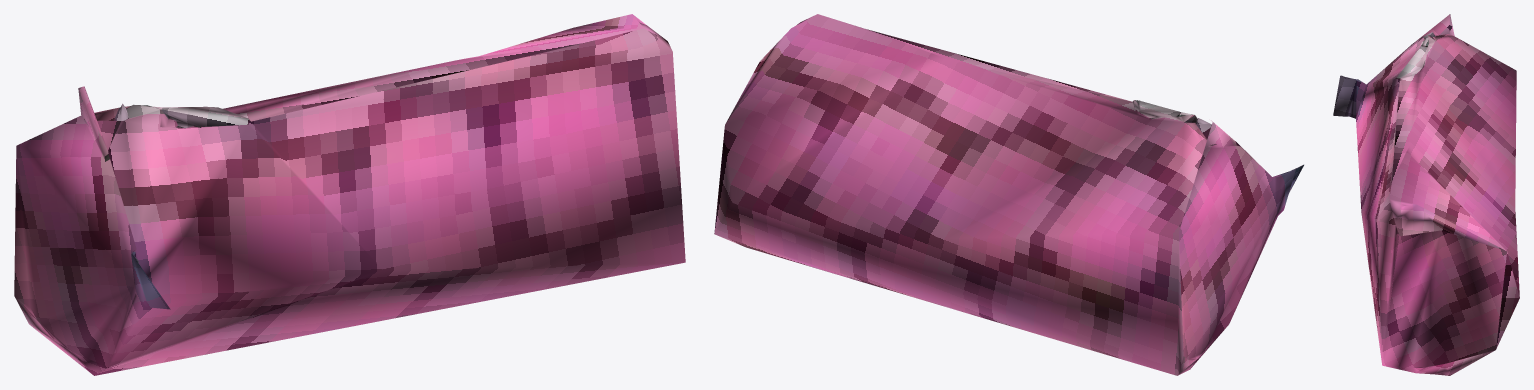
File: Big_Dot_Pink_Pencil_Case-low.glb
The picture shows the model from 3 angles, left to right: view 1: azimuth 30°, elevation 25°; view 2: azimuth 150°, elevation 25°; view 3: azimuth 270°, elevation 25°; orthographic projection. The views are drawn at different scales.
Parts seen in each view (by area): view 1: Big_Dot_Pink_Pencil_Case; view 2: Big_Dot_Pink_Pencil_Case; view 3: Big_Dot_Pink_Pencil_Case.
Boxes of the visible parts, <box> form: Big_Dot_Pink_Pencil_Case: <box>14,14,685,375</box>; Big_Dot_Pink_Pencil_Case: <box>714,14,1303,375</box>; Big_Dot_Pink_Pencil_Case: <box>1333,14,1519,375</box>.
Bounding box in the file's own units: 0.2083 × 0.0999 × 0.0874.
1 material, 1 textured.
